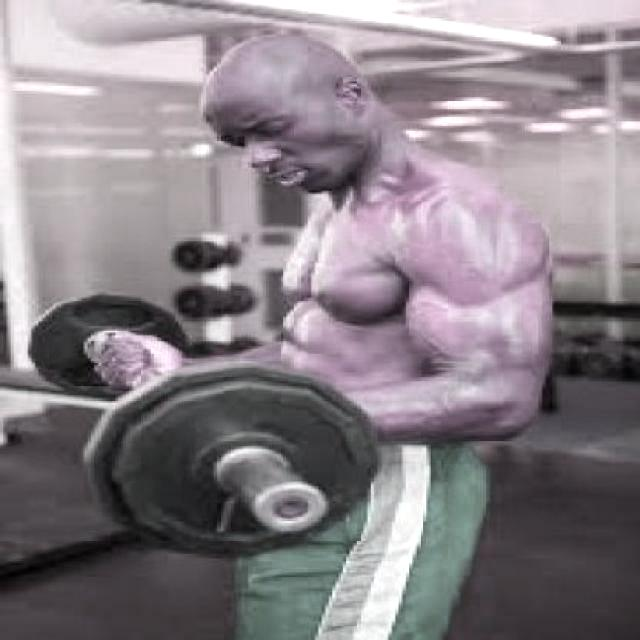barbell: (70, 357, 392, 567)
